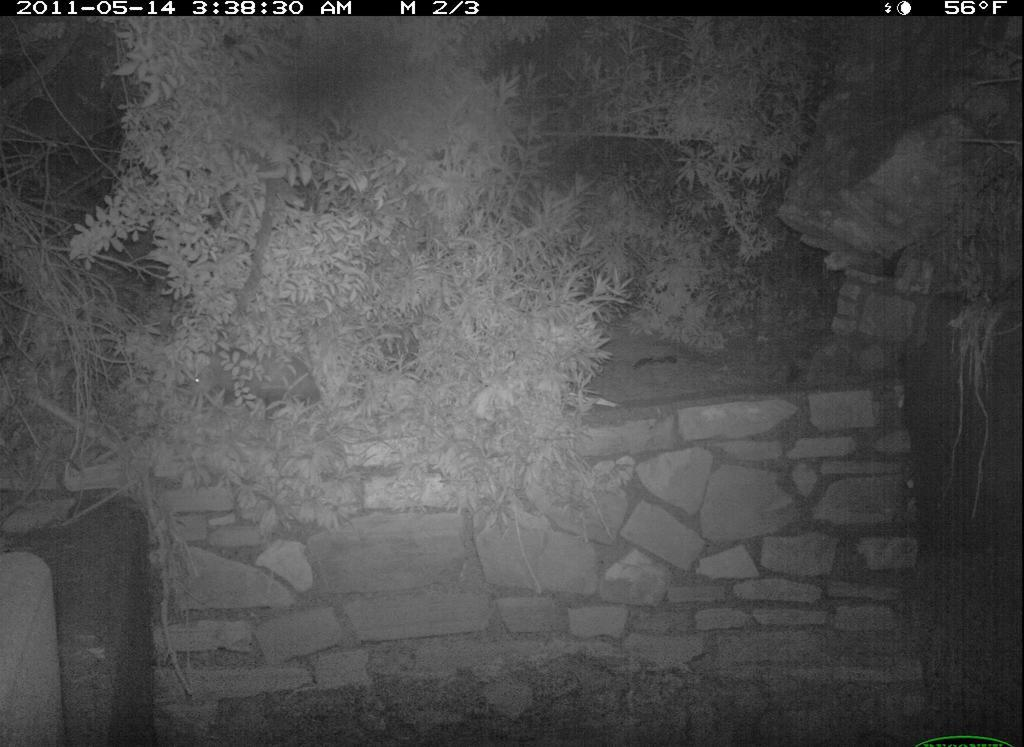opossum: (175, 340, 336, 425)
